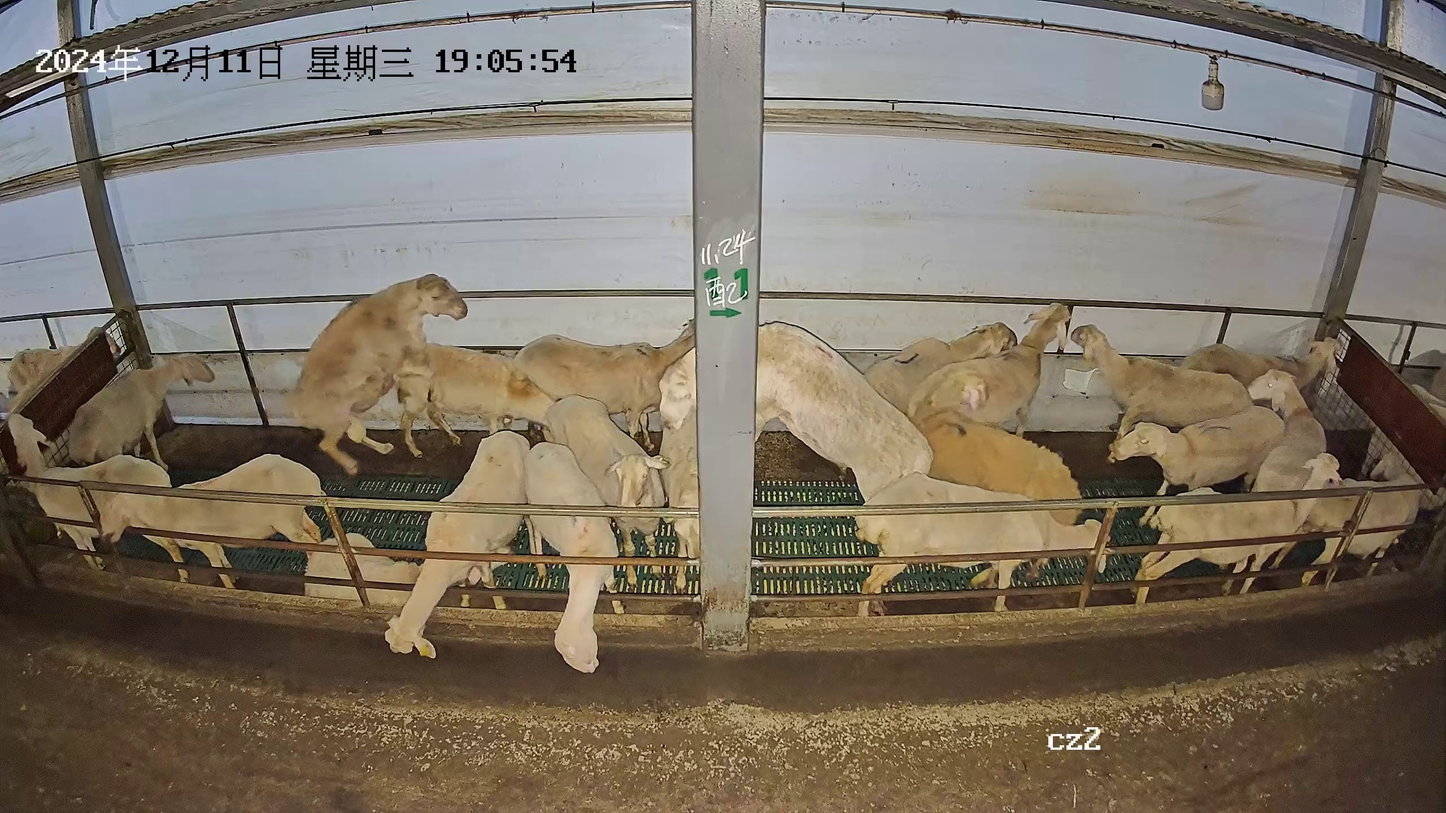Smounting: (289, 270, 561, 475)
mounted: (393, 340, 558, 460)
